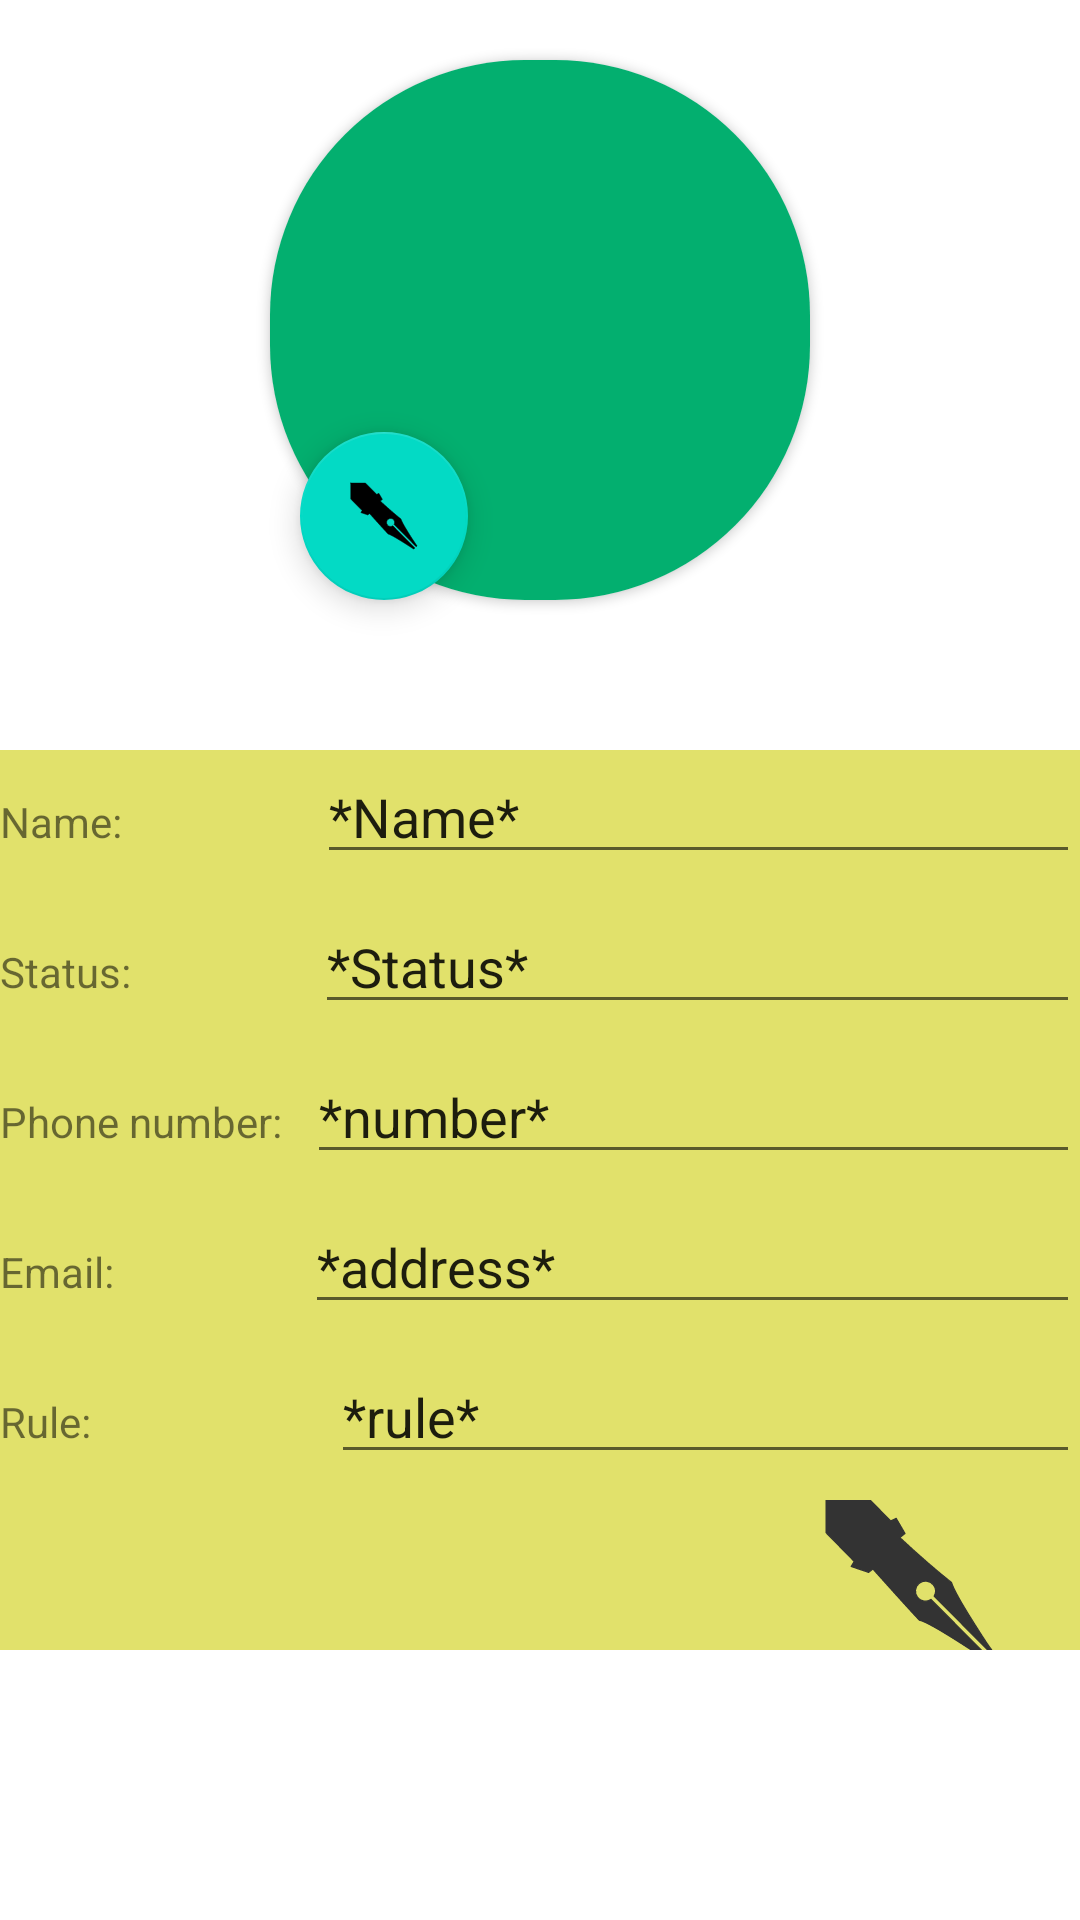

Icon click points for this 1080px×1920px phone screenshot, format [x,y]:
edit: [384,516], [908,1575]
